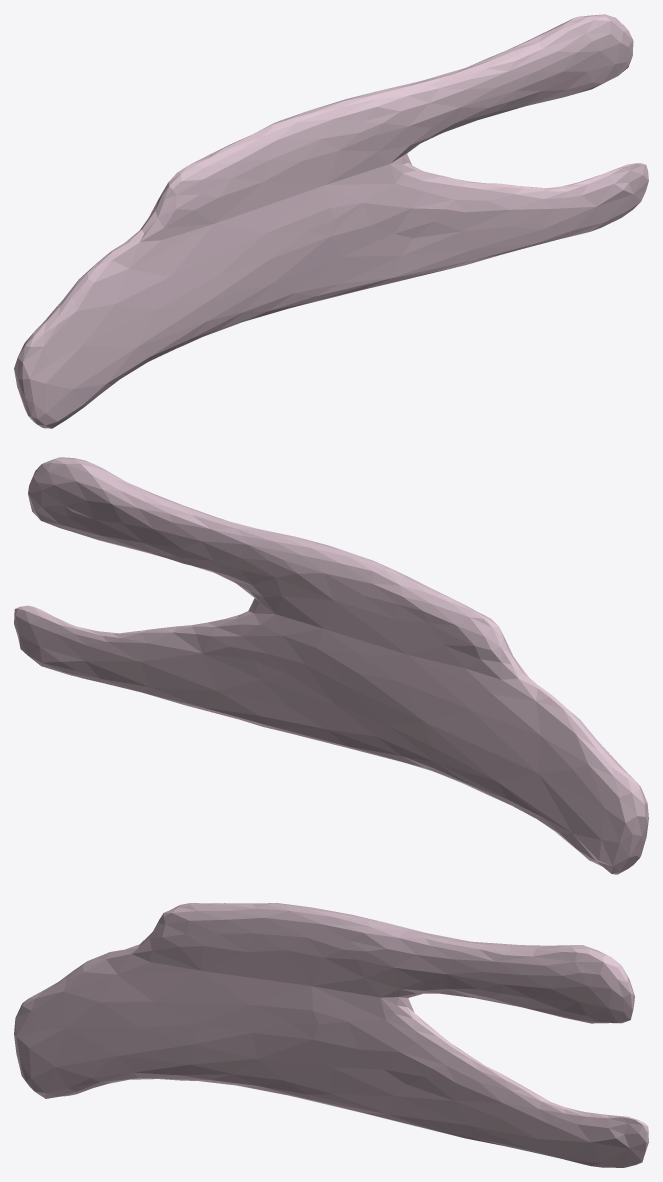
3 views of the same model, one above another, from view 1: azimuth 30°, elevation 25°; view 2: azimuth 150°, elevation 25°; view 3: azimuth 330°, elevation 25° (orthographic).
Visible parts, largest first — view 1: 379.obj; view 2: 379.obj; view 3: 379.obj.
Part boxes in pixels (<box>): 379.obj: <box>14,14,648,428</box>; 379.obj: <box>14,457,648,874</box>; 379.obj: <box>14,903,648,1167</box>.
Size of the model in its own units: 3088 by 1308 by 151.
